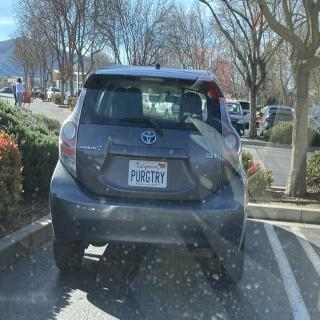license: (129, 160, 169, 190)
